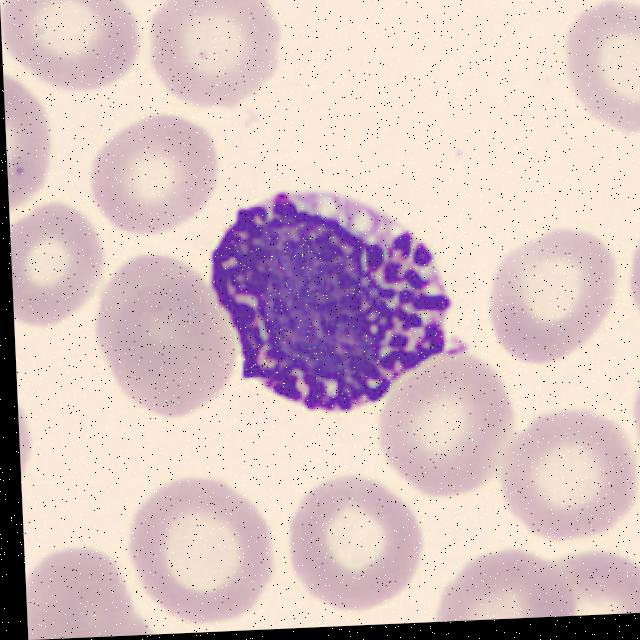basophil: (197, 163, 463, 420)
rbc: (467, 222, 620, 368), (127, 470, 272, 623), (287, 469, 429, 617), (500, 392, 640, 542), (112, 273, 238, 432), (85, 110, 228, 247), (135, 0, 289, 127), (372, 360, 513, 494), (92, 246, 205, 382), (0, 0, 138, 102), (9, 198, 105, 343), (552, 5, 640, 142), (432, 555, 575, 622), (33, 534, 124, 638), (25, 565, 150, 640), (3, 55, 56, 215), (568, 544, 640, 616), (17, 387, 58, 492), (619, 352, 640, 482), (621, 226, 640, 329)
